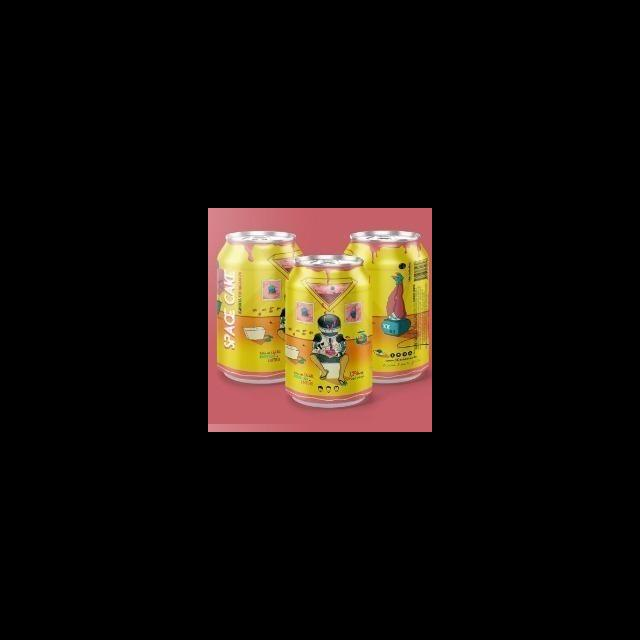metal: (214, 227, 306, 393), (283, 253, 378, 411), (342, 228, 432, 387)
